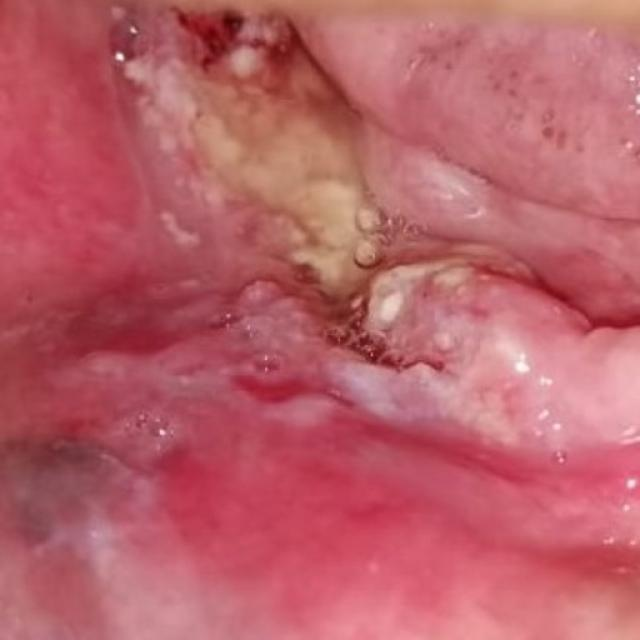cancer-detection: (124, 18, 616, 450)
processing_area: (2, 6, 638, 636)
